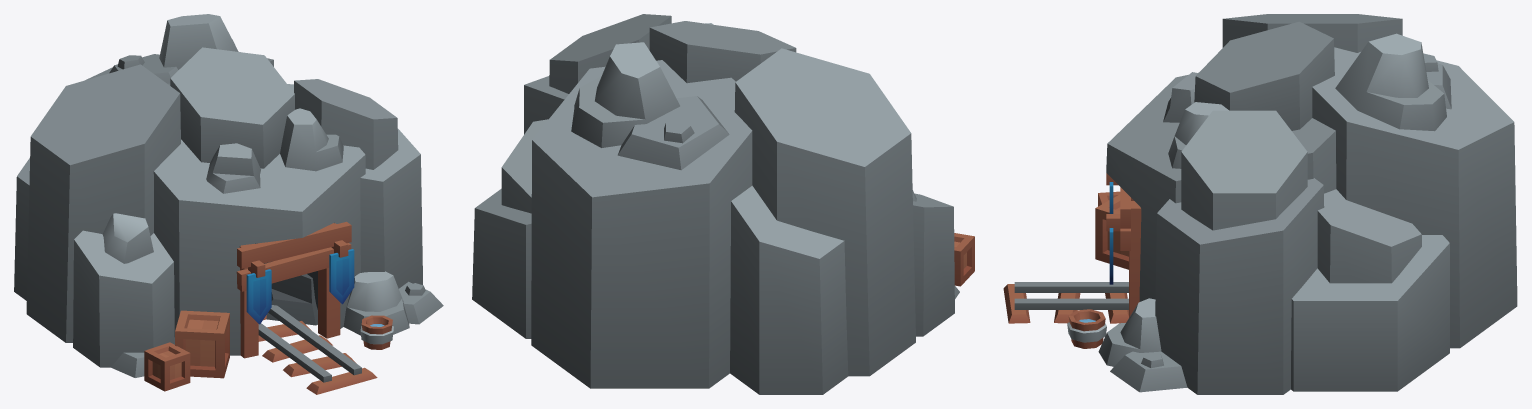
File: mine.glb
3 renders of one model, left to right at view 1: azimuth 30°, elevation 25°; view 2: azimuth 150°, elevation 25°; view 3: azimuth 270°, elevation 25°, orthographic. The views are drawn at different scales.
Parts seen in each view (by area): view 1: building_mine_blue; view 2: building_mine_blue; view 3: building_mine_blue.
Boxes of the visible parts, x1,y1,x2,y2 form: building_mine_blue: (14,14,443,394); building_mine_blue: (472,14,974,394); building_mine_blue: (1003,14,1517,394).
Size of the model in its own units: 1.61 by 1.14 by 1.92.
Materials: 1 (1 with a texture image).
